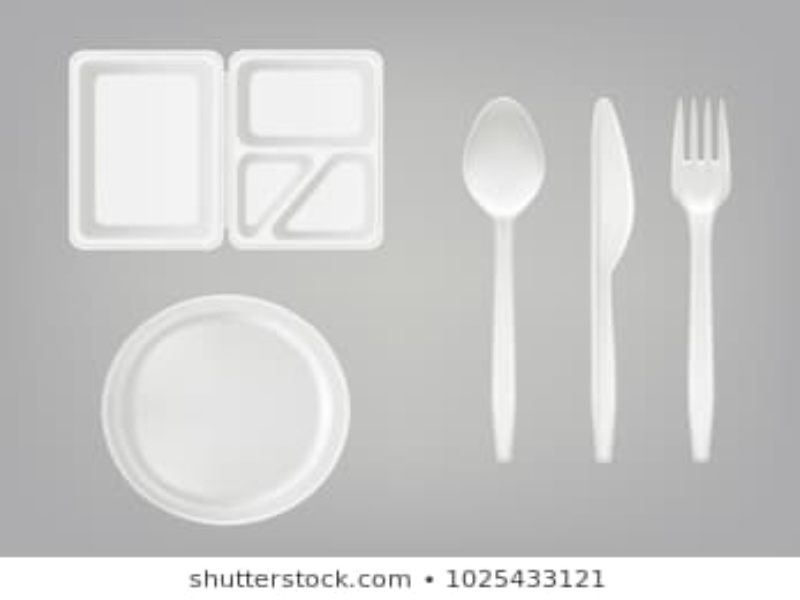plastic-plate: (62, 42, 394, 259), (96, 290, 356, 530)
plastic-silverware: (460, 93, 546, 467), (667, 95, 733, 463), (582, 95, 635, 467)
